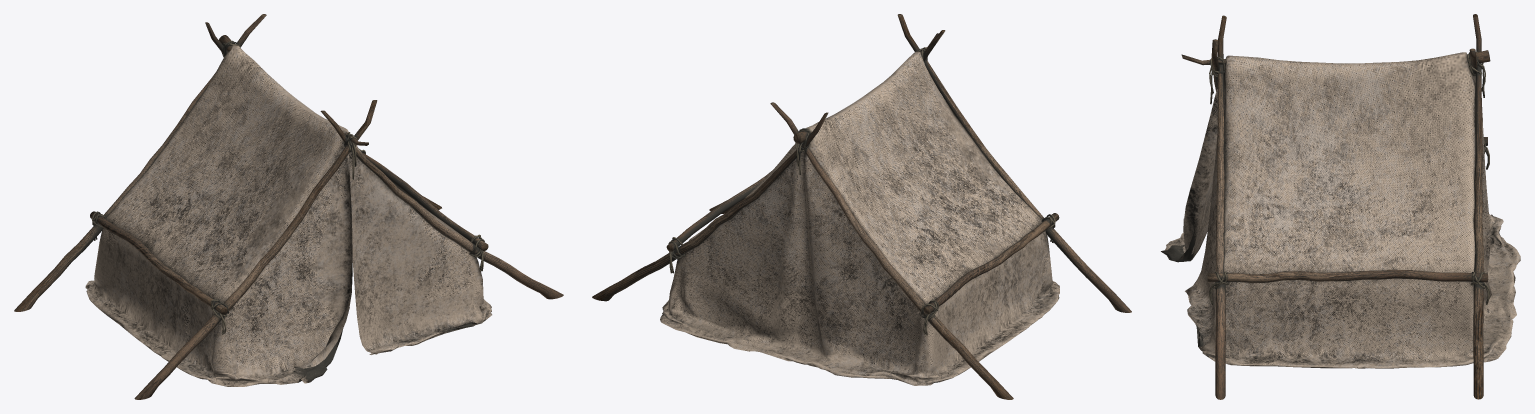
File: tent.obj
3 renders of one model, left to right at view 1: azimuth 30°, elevation 25°; view 2: azimuth 150°, elevation 25°; view 3: azimuth 270°, elevation 25°, orthographic. The views are drawn at different scales.
Parts seen in each view (by area): view 1: 01_03, 01_01, 01_02; view 2: 01_03, 01_01, 01_02; view 3: 01_03, 01_01, 01_02.
Boxes of the visible parts, bbox=[...] form: 01_03: bbox=[85, 44, 492, 386]; 01_01: bbox=[14, 14, 563, 399]; 01_02: bbox=[91, 40, 484, 334]; 01_03: bbox=[660, 51, 1059, 385]; 01_01: bbox=[592, 14, 1131, 399]; 01_02: bbox=[668, 47, 1055, 335]; 01_03: bbox=[1161, 52, 1520, 368]; 01_01: bbox=[1181, 14, 1490, 399]; 01_02: bbox=[1209, 51, 1489, 304].
Size of the model in its own units: 4.82 by 2.62 by 3.27.
3 materials, 3 textured.
